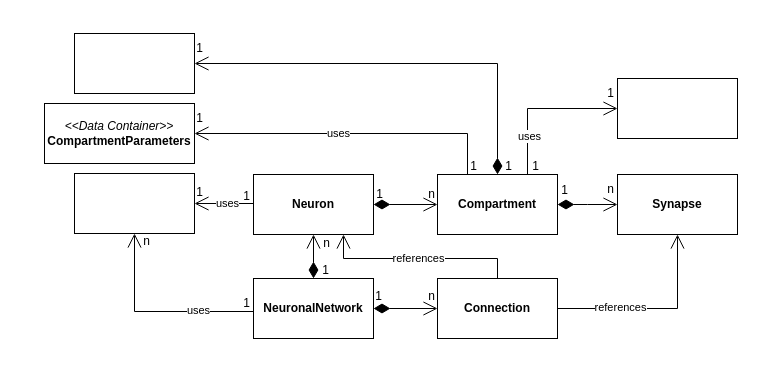
Image size: 784x378. Some labels were removed from this diagram. Here are the shapes that lost their labels. From the top down, the centre of each, then its label:
(134,63): CompartmentState
(677,108): <<enumeration>> CompartmentType
(134,203): << Data Container >> NeuronParameters
